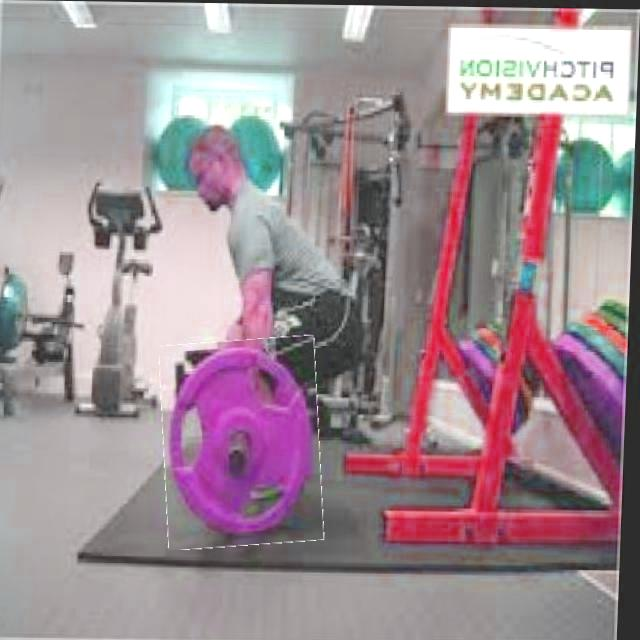barbell: (161, 335, 330, 549)
